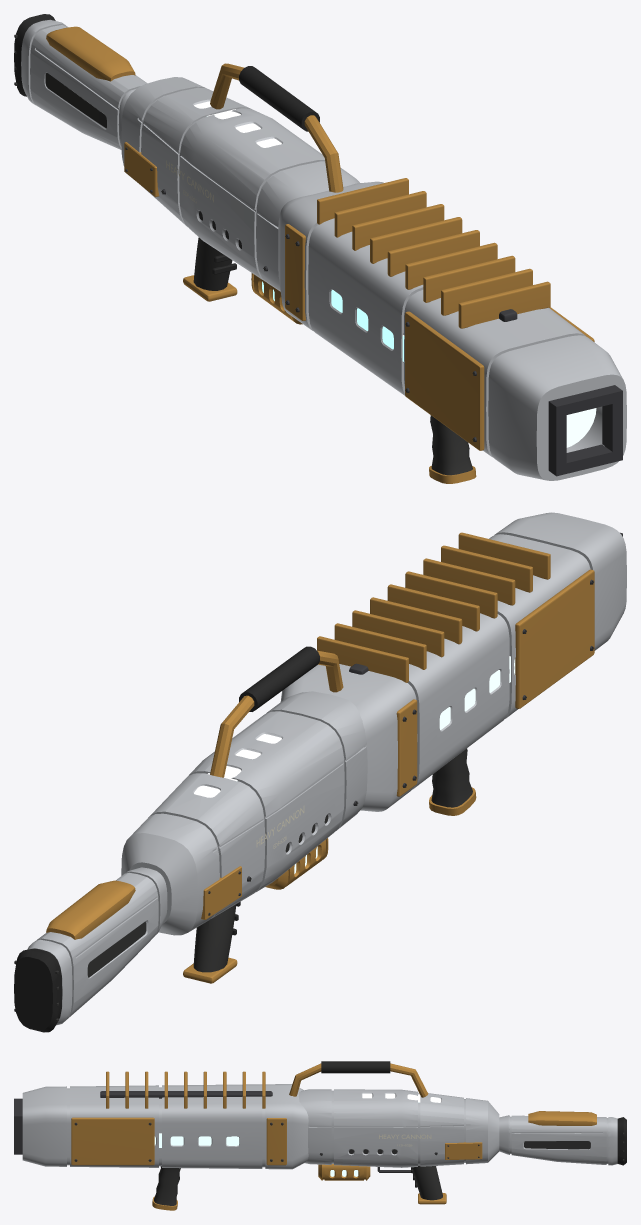
The model's file is heavycannon.glb.
The picture shows the model from 3 angles, top to bottom: view 1: azimuth 30°, elevation 25°; view 2: azimuth 150°, elevation 25°; view 3: azimuth 270°, elevation 25°; orthographic projection. The views are drawn at different scales.
Visible parts, largest first — view 1: Body; view 2: Body; view 3: Body.
Boxes of the visible parts, box(x1,y1,x2,y2) form: Body: box(14, 14, 626, 483); Body: box(14, 512, 626, 1032); Body: box(14, 1061, 626, 1210).
Bounding box in the file's own units: 0.1325 × 0.2787 × 1.07.
